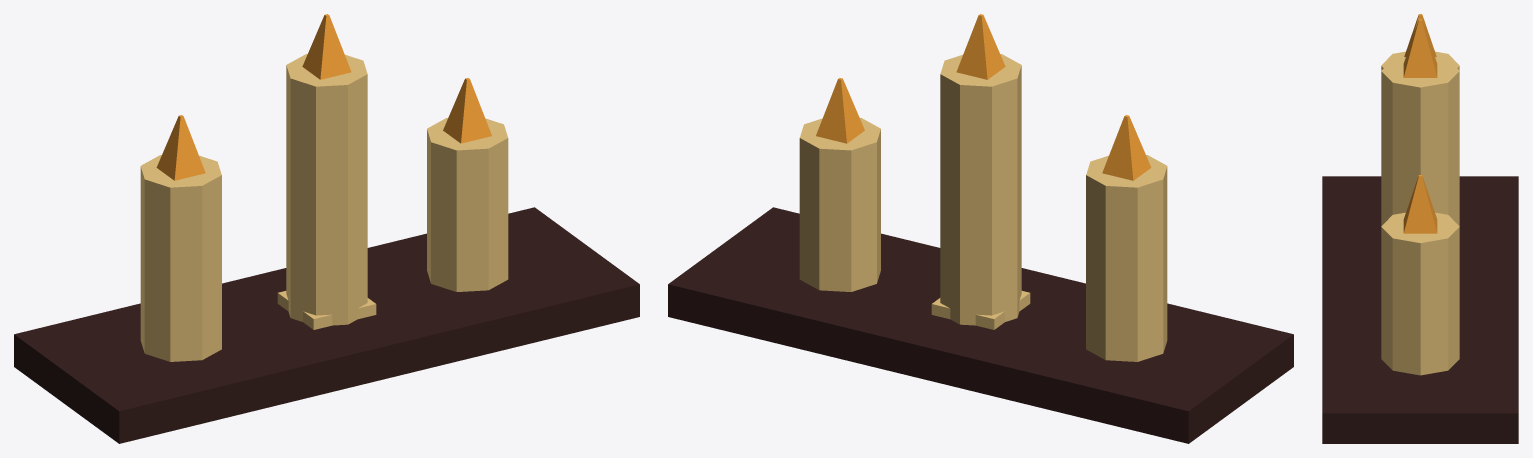
File: candle_set.obj
3 views of the same model, side by side, from view 1: azimuth 30°, elevation 25°; view 2: azimuth 150°, elevation 25°; view 3: azimuth 270°, elevation 25° (orthographic). The views are drawn at different scales.
Bounding box in the file's own units: 1 × 0.6 × 0.35.
